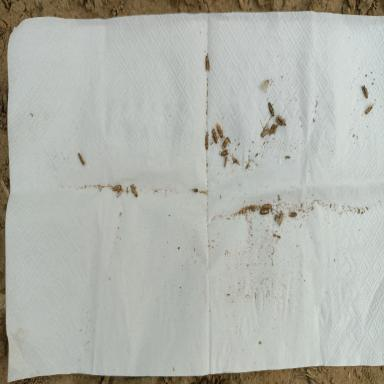pbw: (360, 85, 368, 99), (216, 122, 223, 138), (221, 135, 229, 148), (260, 127, 270, 137), (78, 152, 85, 166), (268, 124, 276, 136), (365, 104, 373, 116), (204, 55, 210, 71), (261, 79, 269, 91), (278, 212, 284, 228), (268, 101, 274, 117), (212, 128, 218, 143), (130, 185, 138, 196), (205, 129, 209, 150), (112, 185, 122, 192), (288, 212, 298, 218), (259, 209, 269, 214), (276, 118, 282, 126), (220, 150, 228, 156), (262, 204, 272, 208), (224, 157, 227, 166)
